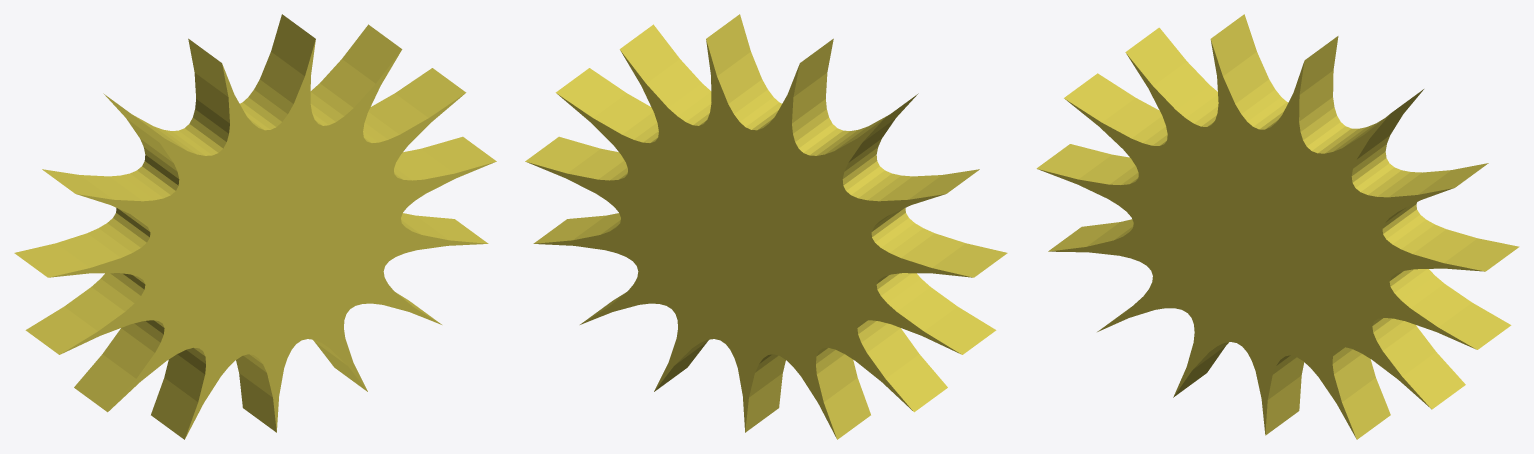
File: sun.glb
3 views of the same model, side by side, from view 1: azimuth 30°, elevation 25°; view 2: azimuth 150°, elevation 25°; view 3: azimuth 330°, elevation 25° (orthographic).
Parts seen in each view (by area): view 1: Mesh_Mesh_head_geo.001_lambert2SG.001; view 2: Mesh_Mesh_head_geo.001_lambert2SG.001; view 3: Mesh_Mesh_head_geo.001_lambert2SG.001.
Part boxes in pixels (x1=…): Mesh_Mesh_head_geo.001_lambert2SG.001: x1=14, y1=14, x2=496, y2=439; Mesh_Mesh_head_geo.001_lambert2SG.001: x1=525, y1=14, x2=1007, y2=439; Mesh_Mesh_head_geo.001_lambert2SG.001: x1=1036, y1=14, x2=1519, y2=439.
Size of the model in its own units: 0.0306 by 0.025 by 0.004.
